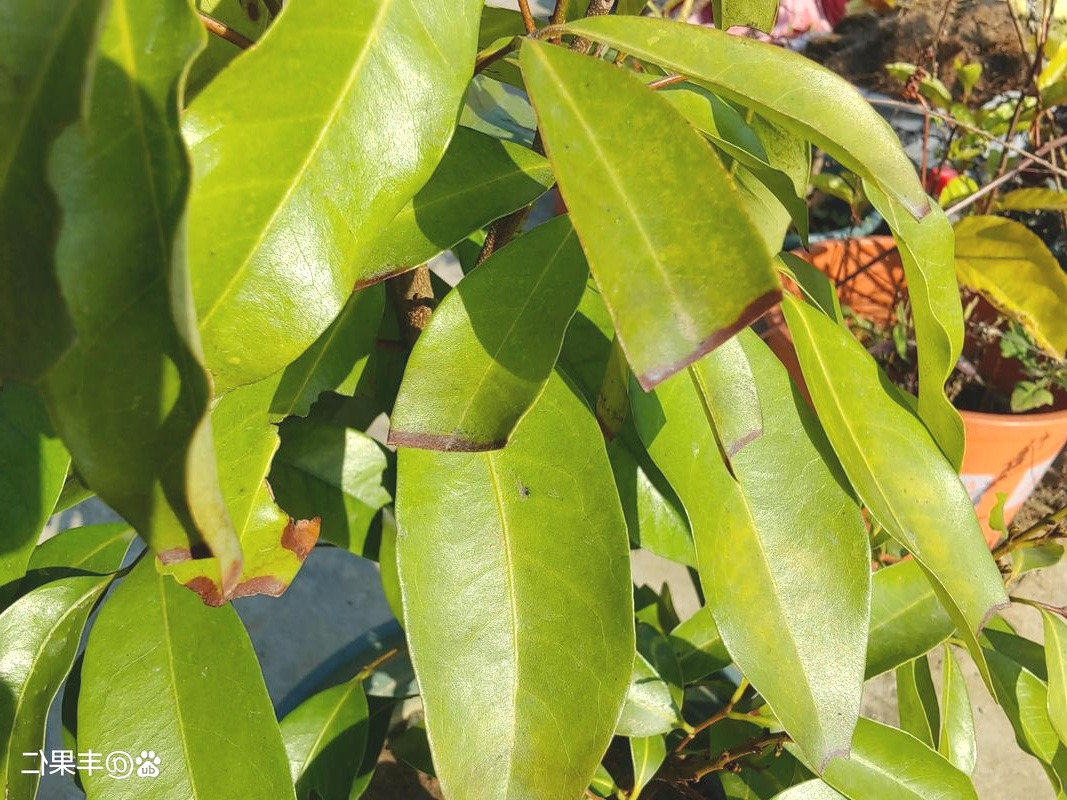Anthracnose: (601, 281, 808, 450), (138, 494, 378, 618), (375, 422, 518, 460)
